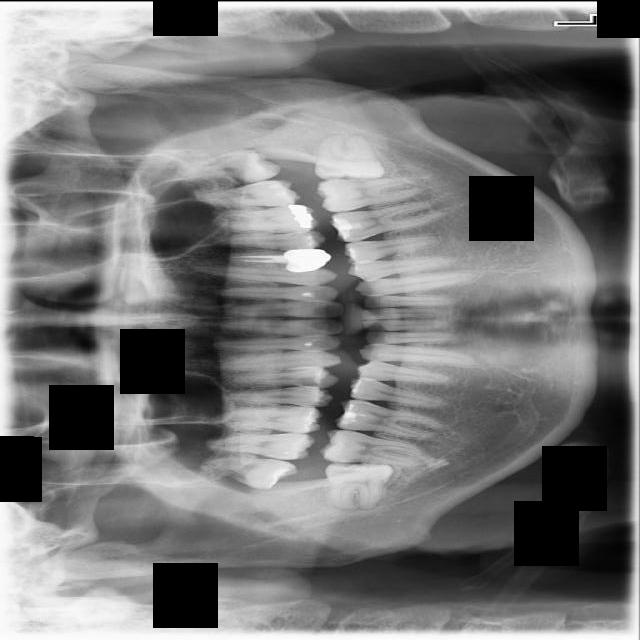3M ESPE Implant: (199, 453, 299, 491)
52: (279, 246, 334, 273), (285, 196, 318, 232), (329, 216, 363, 242), (337, 402, 365, 431), (214, 465, 247, 482), (302, 292, 315, 296), (305, 341, 313, 346)
73: (221, 247, 282, 269), (557, 49, 568, 53)
BioHorizons Implant: (194, 178, 301, 206)
BioLife Implant: (174, 148, 281, 184)
Biomet 3i Implant: (313, 133, 384, 180)
Blue Sky Bio Implant: (314, 173, 426, 213)
Caries: (207, 429, 314, 460)
Implant: (319, 427, 426, 469)
Keystone Dental Implant: (323, 458, 393, 509)
